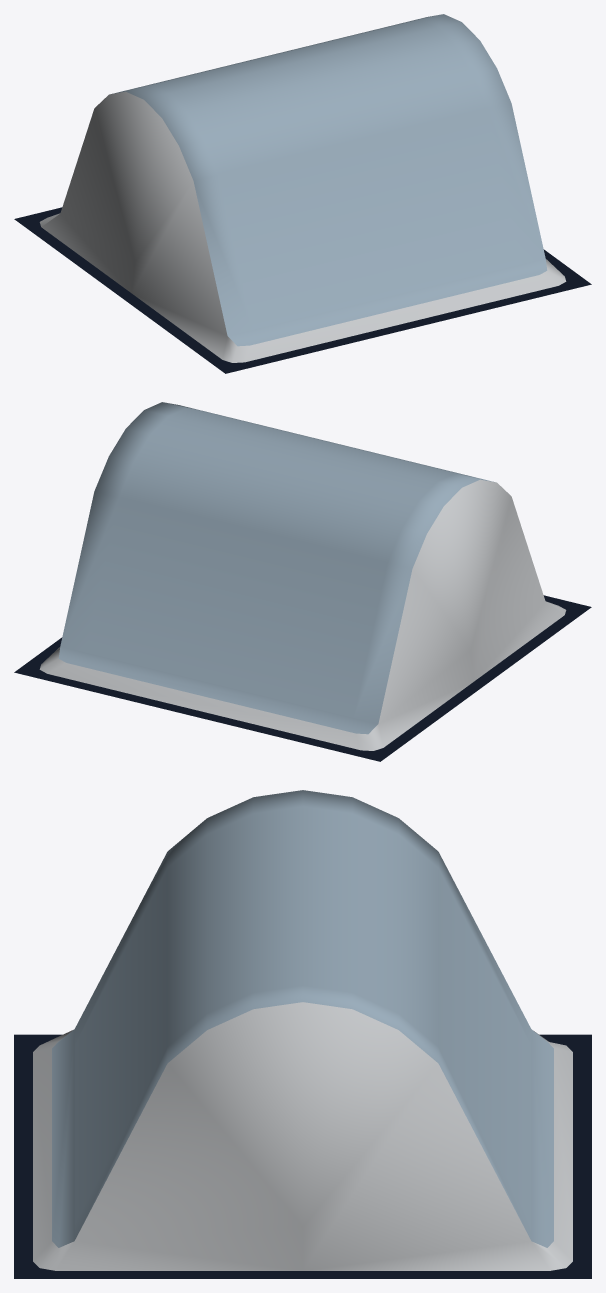
File: CurveTestTile.fbx
3 views of the same model, one above another, from view 1: azimuth 30°, elevation 25°; view 2: azimuth 150°, elevation 25°; view 3: azimuth 270°, elevation 25° (orthographic). The views are drawn at different scales.
Parts seen in each view (by area): view 1: CurveTestTile; view 2: CurveTestTile; view 3: CurveTestTile.
Boxes of the visible parts, box(x1,y1,x2,y2) form: CurveTestTile: box(14, 14, 591, 373); CurveTestTile: box(14, 402, 591, 761); CurveTestTile: box(14, 790, 591, 1278).
Size of the model in its own units: 100 by 100 by 49.77.
